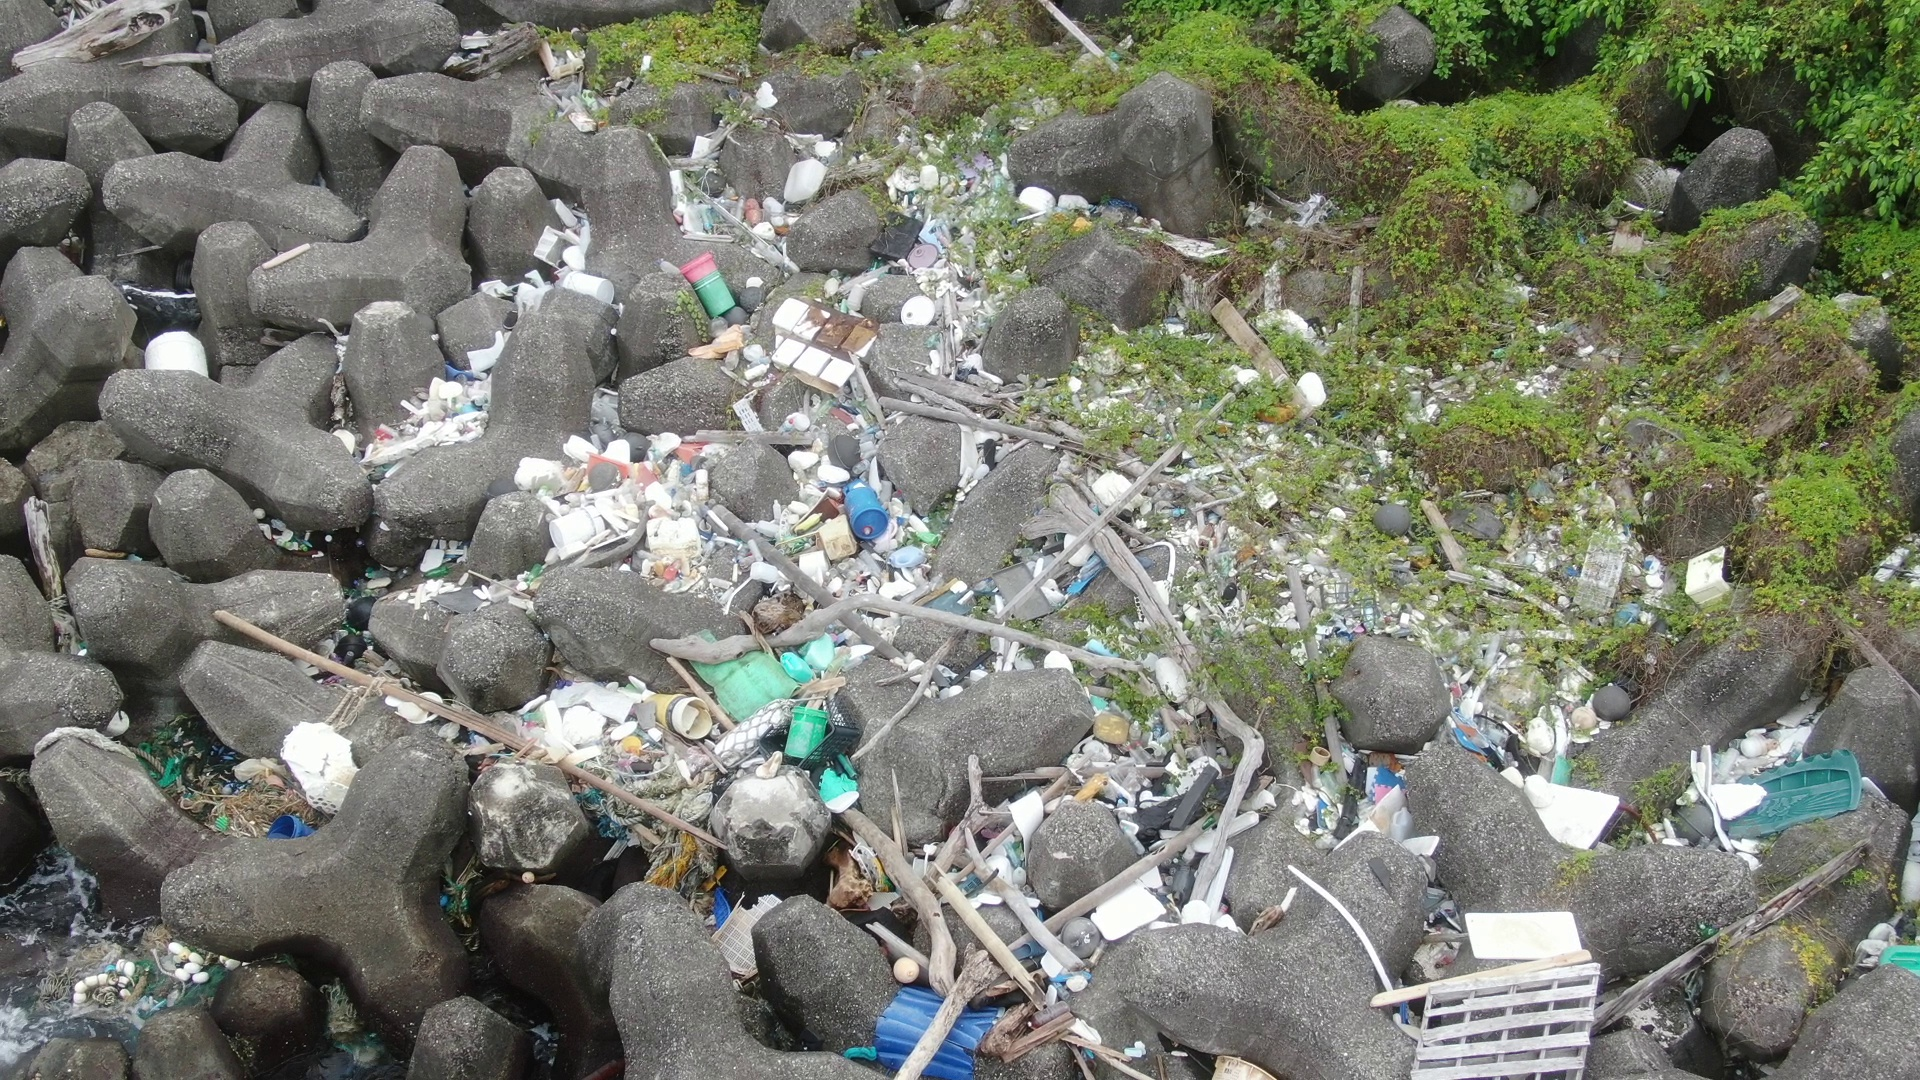garbage: (255, 74, 1052, 558), (798, 717, 1288, 1080), (386, 679, 802, 990), (1073, 365, 1338, 713), (636, 533, 1023, 717), (1375, 887, 1615, 1080), (129, 709, 389, 849), (233, 558, 568, 665), (1309, 676, 1520, 840), (1677, 727, 1878, 865), (1559, 520, 1750, 632), (75, 916, 245, 1026), (1527, 686, 1625, 856), (1058, 181, 1244, 262), (534, 17, 600, 142), (1851, 909, 1920, 975)
